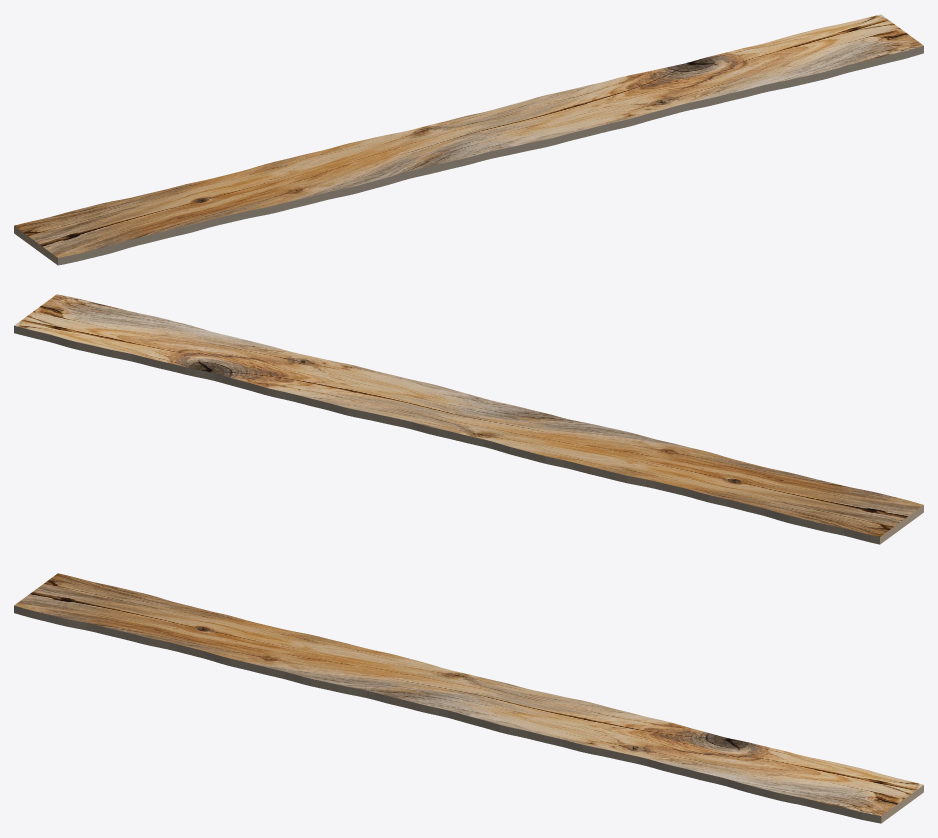
3 renders of one model, top to bottom at view 1: azimuth 30°, elevation 25°; view 2: azimuth 150°, elevation 25°; view 3: azimuth 330°, elevation 25°, orthographic.
Visible parts, largest first — view 1: KL-002; view 2: KL-002; view 3: KL-002.
Part boxes in pixels (box(x1,y1,x2,y2)): KL-002: box(14, 14, 923, 265); KL-002: box(14, 294, 923, 544); KL-002: box(14, 573, 923, 823).
Bounding box in the file's own units: 4.8 × 0.04 × 0.4402.
Materials: 3 (1 with a texture image).
